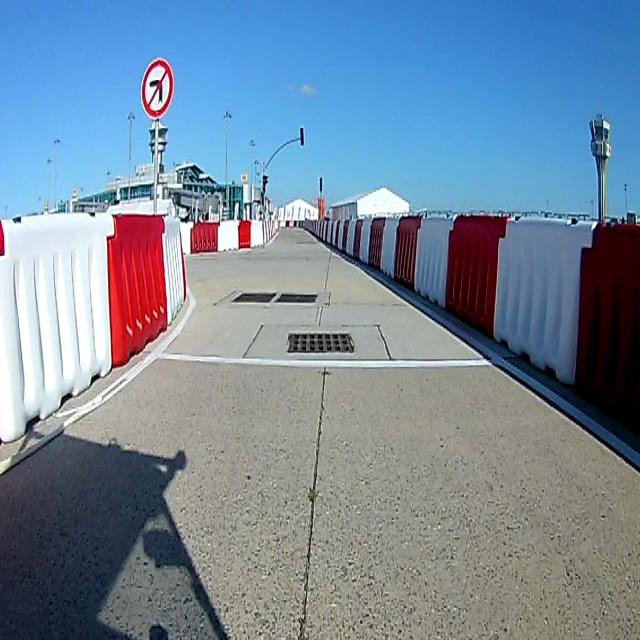soladonulmez: (140, 56, 172, 118)
